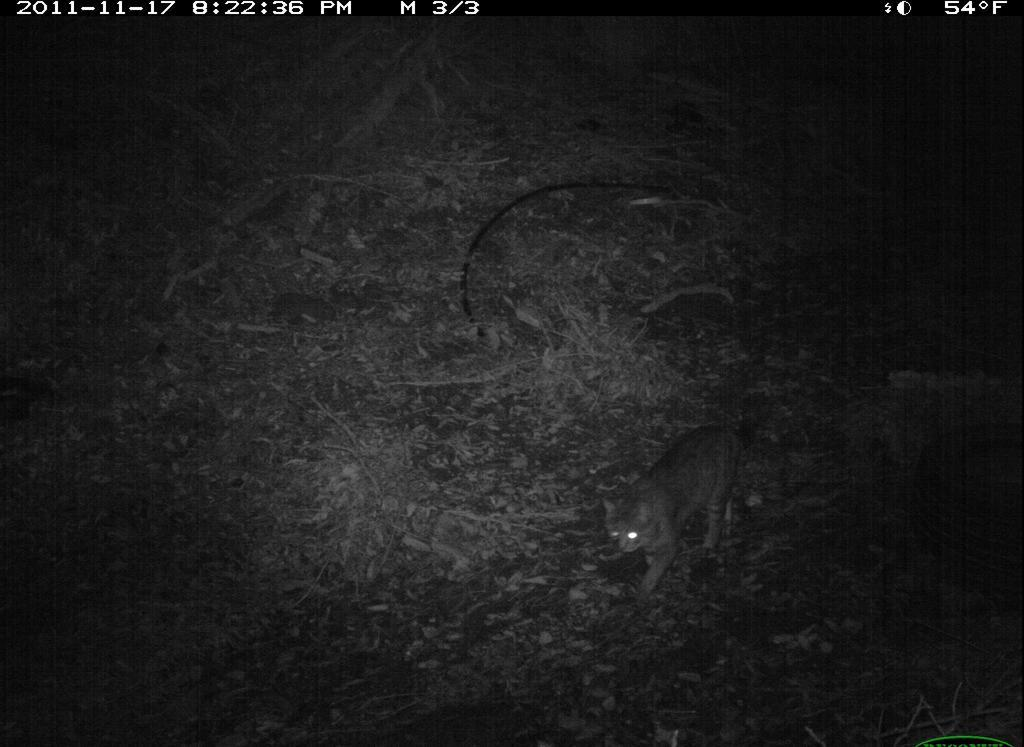cat: (591, 402, 763, 609)
